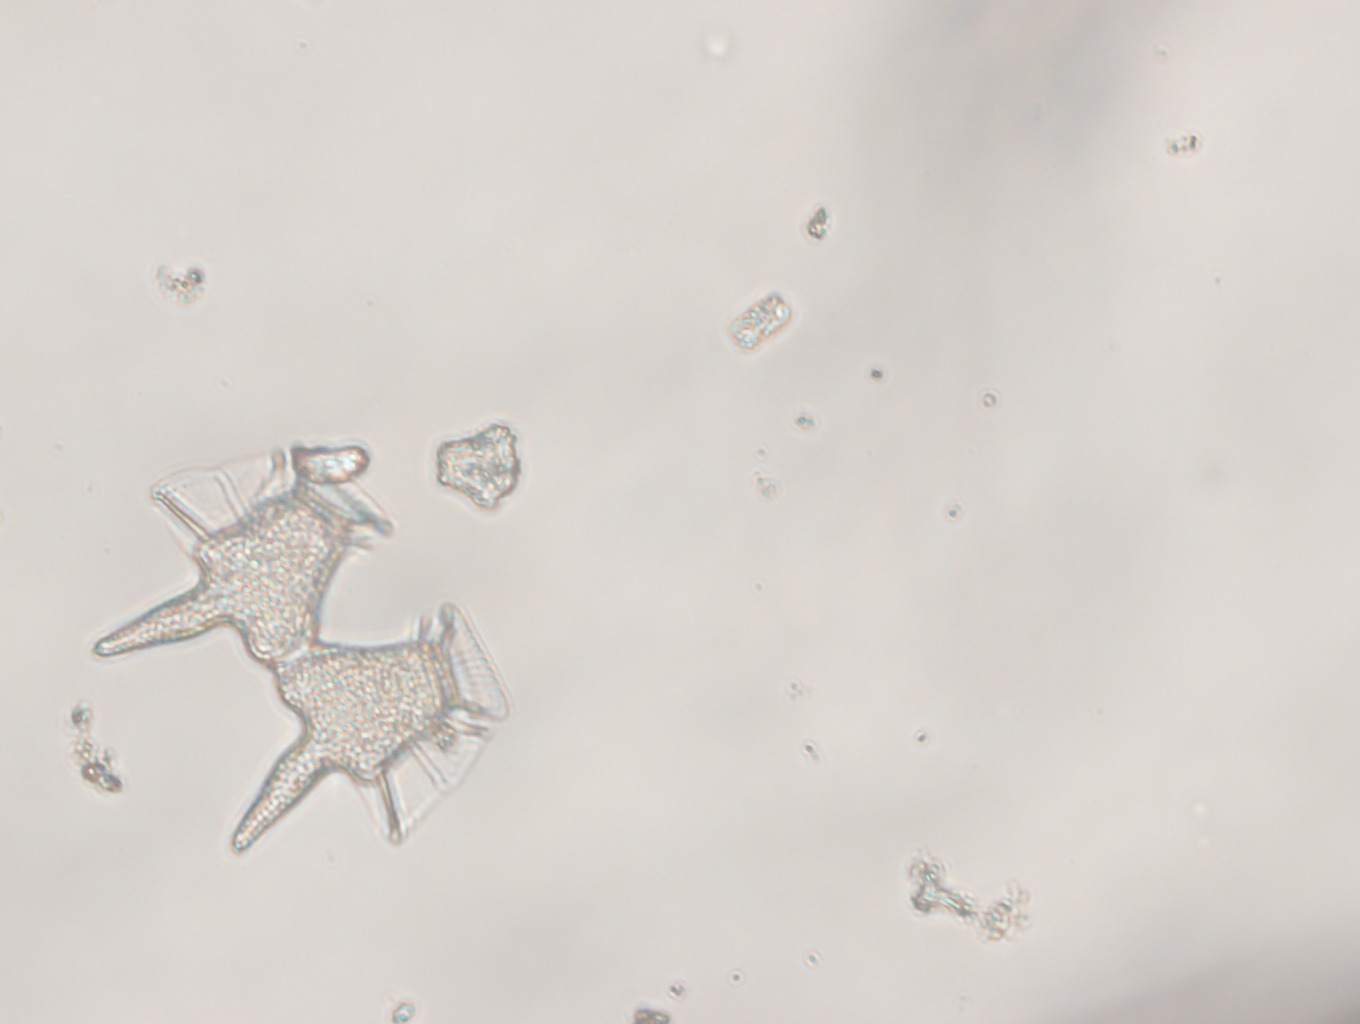dinophysis caudata: (94, 442, 513, 856)
